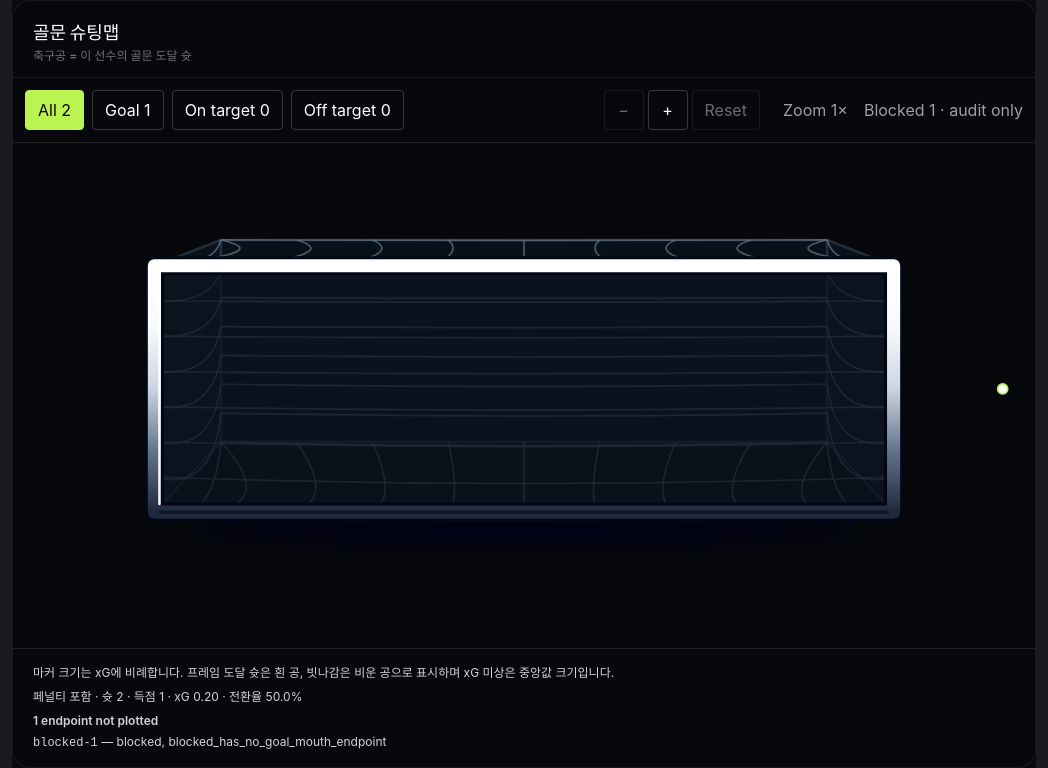
Scenario: Final Third Shot Chart › provides accessible Goal-Mouth zoom controls without changing the fit-to-data view
The image size is (1048, 768).
Check: the button named "Zoom out" is disabled, box [604, 90, 644, 130]
Click the button named "Zoom in": (668, 110) [648, 90, 688, 130]
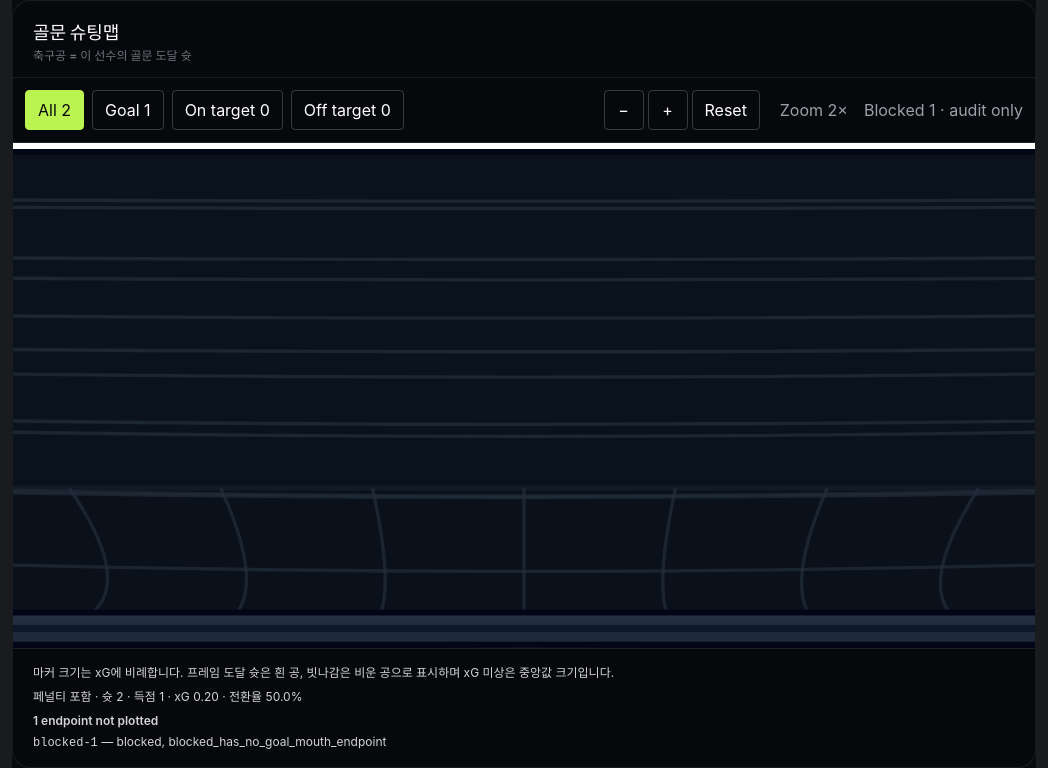
Check: the text "Zoom 2×" is shown, box [768, 98, 848, 122]
Click the button named "Zoom out": (624, 110) [604, 90, 644, 130]
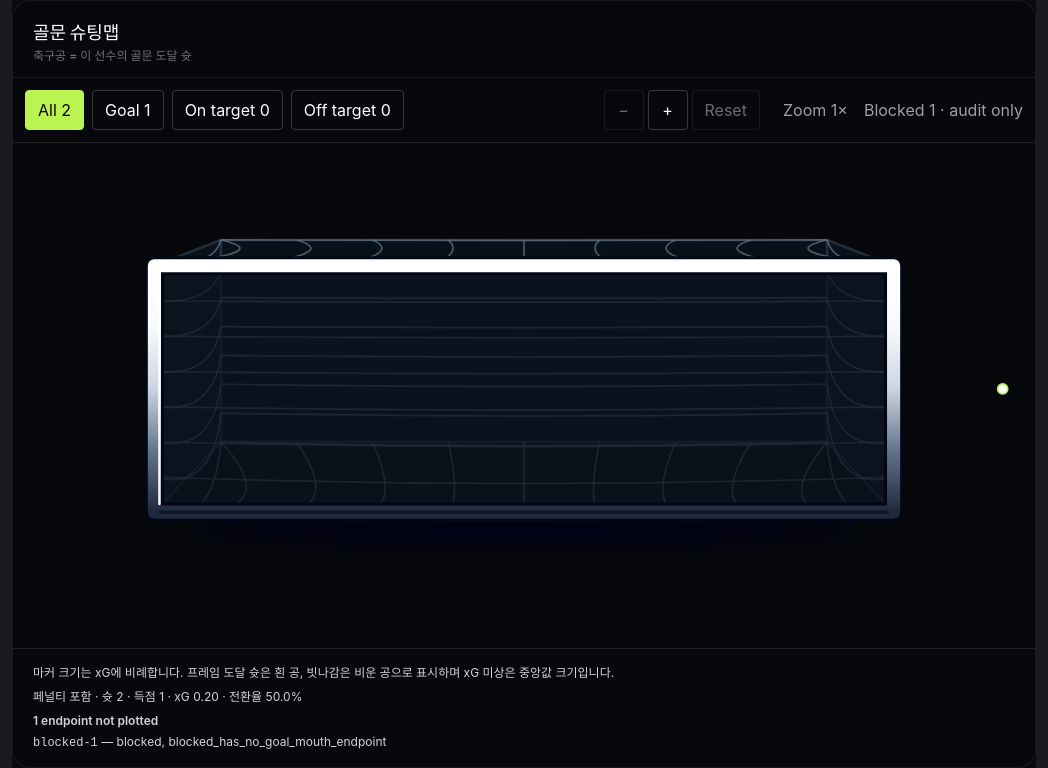
Click the button named "Zoom in": (668, 110) [648, 90, 688, 130]
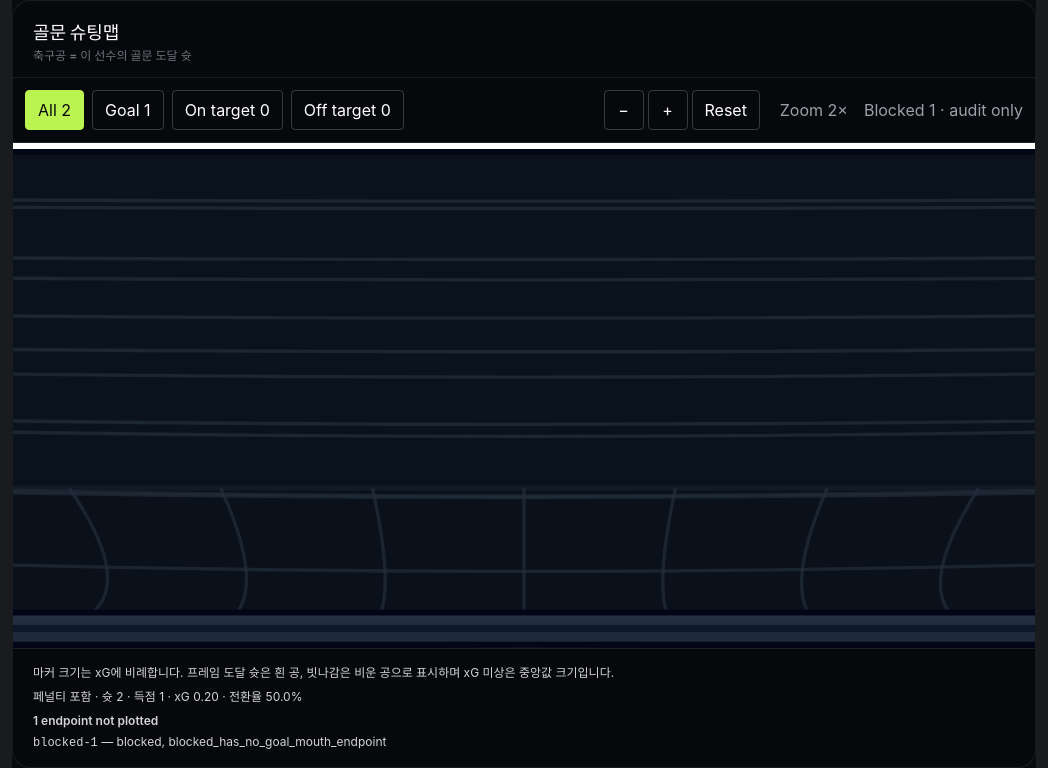
Click the button named "Zoom in": (668, 110) [648, 90, 688, 130]
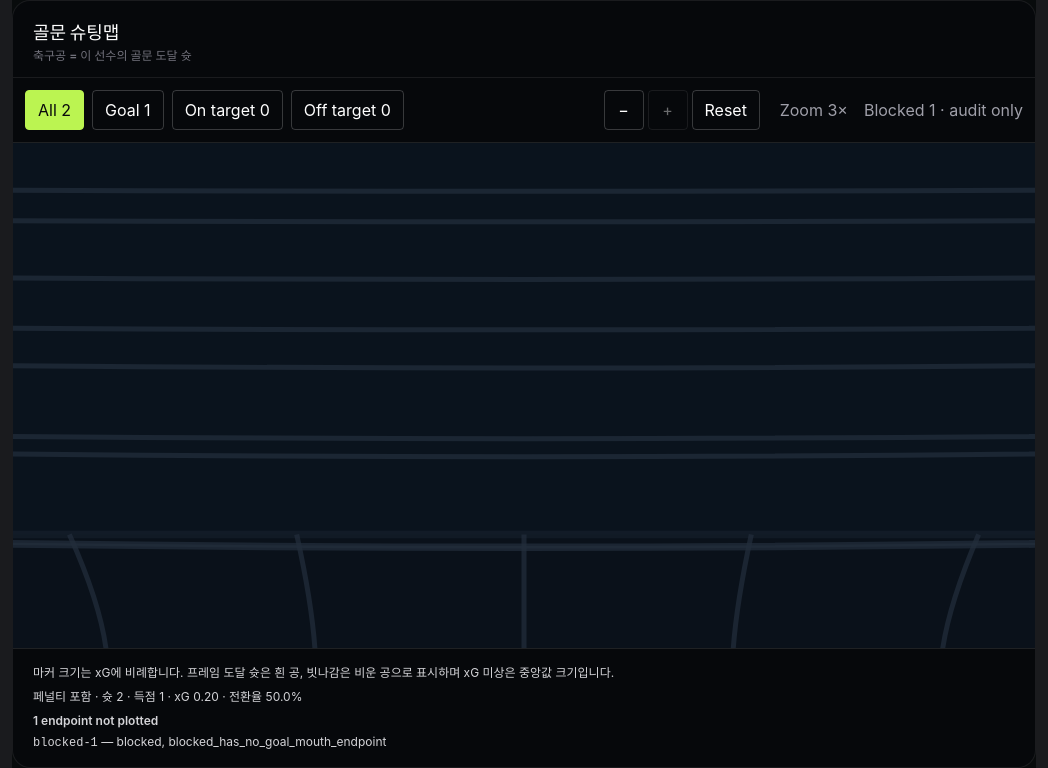
Click the button with aria-label "Reset zoom and pan": (726, 110) [692, 90, 760, 130]
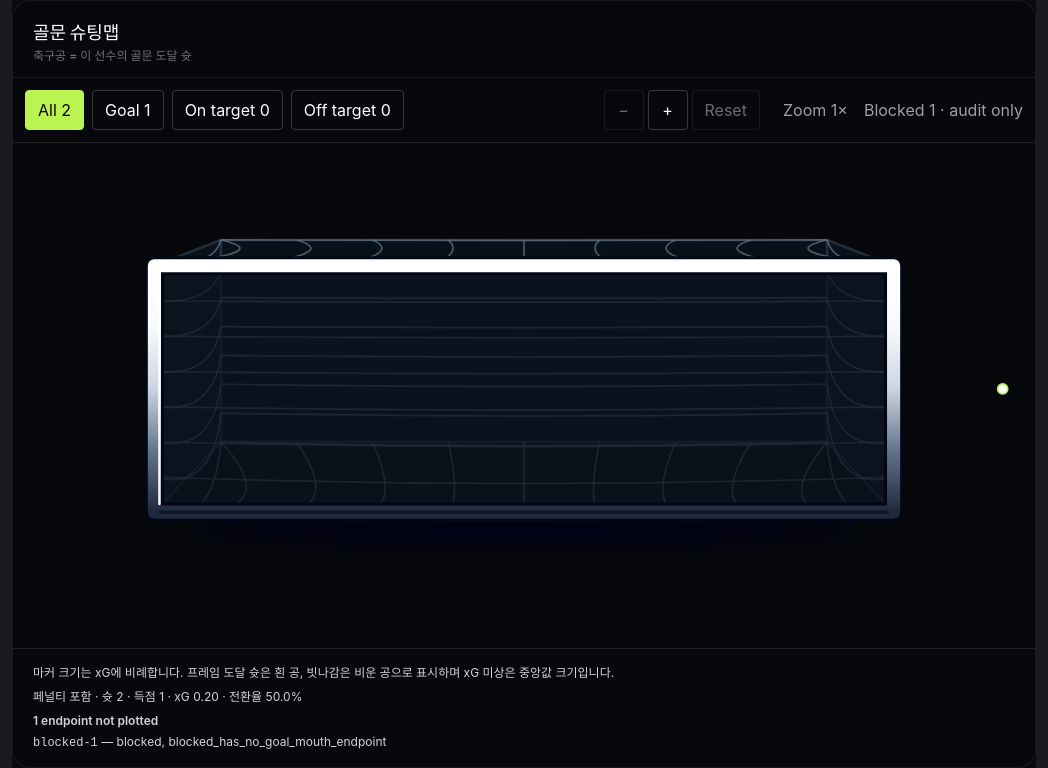
Check: the text "Zoom 1×" is shown, box [783, 100, 848, 120]
